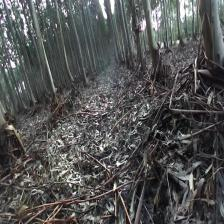trunk: (28, 4, 57, 104), (198, 0, 224, 66), (142, 4, 162, 71), (59, 28, 75, 83)
